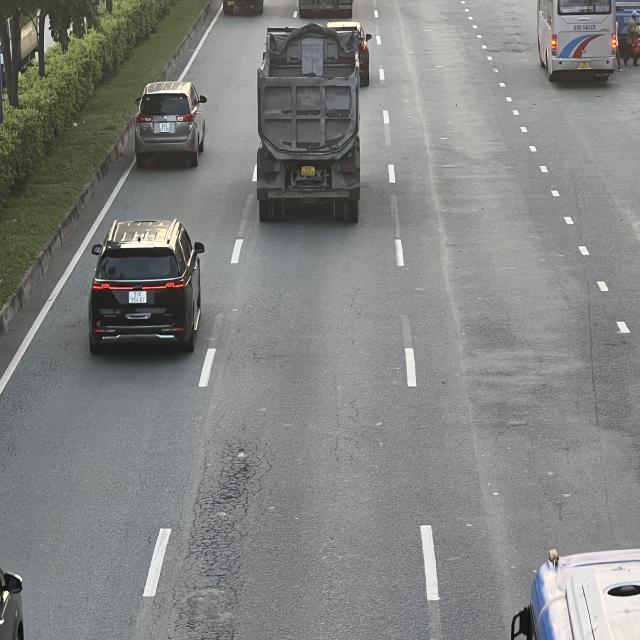car: (88, 220, 206, 356), (137, 82, 210, 171)
coach: (534, 1, 618, 82)
container: (254, 24, 365, 223)
